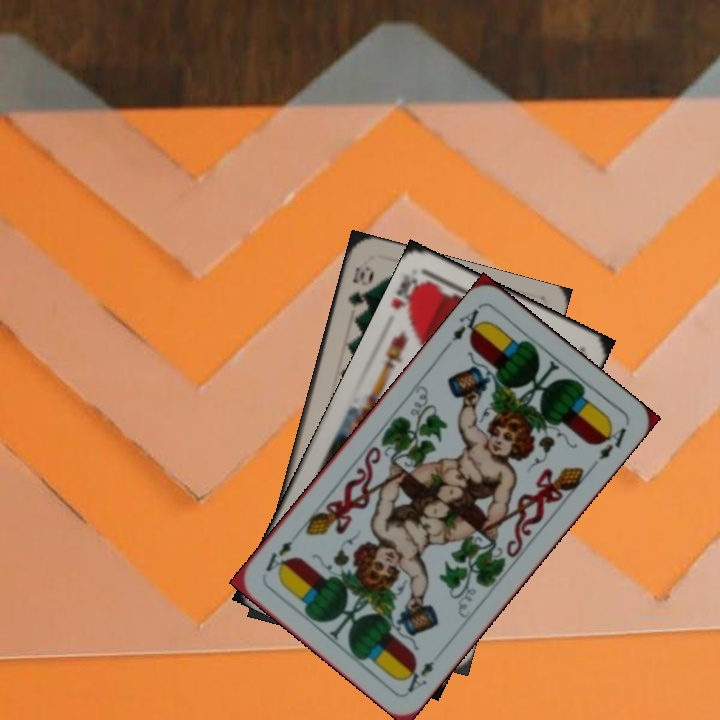EA: (447, 302, 487, 344), (399, 656, 437, 696)
G10: (344, 262, 376, 310)
HK: (387, 270, 428, 322)
